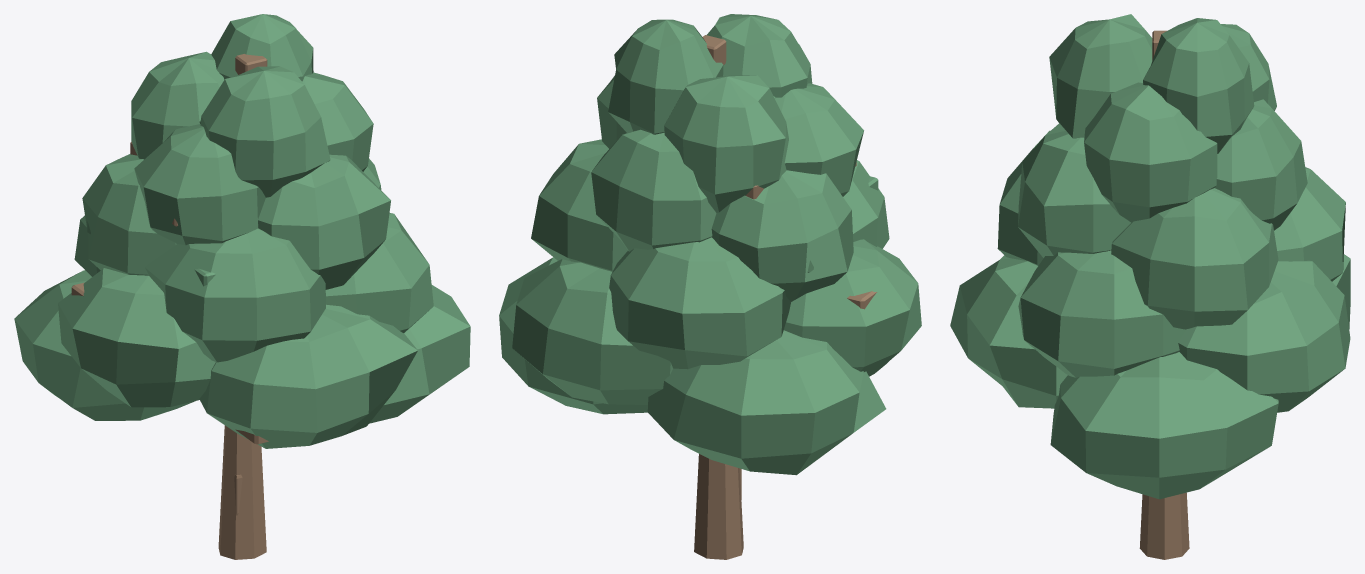
Rendered from b08_bald_cypress.glb.
3 views of the same model, side by side, from view 1: azimuth 30°, elevation 25°; view 2: azimuth 150°, elevation 25°; view 3: azimuth 270°, elevation 25° (orthographic). The views are drawn at different scales.
Parts seen in each view (by area): view 1: b08_bald_cypress; view 2: b08_bald_cypress; view 3: b08_bald_cypress.
Boxes of the visible parts, left/top/right/bottom form: b08_bald_cypress: left=14, top=14, right=470, bottom=559; b08_bald_cypress: left=499, top=14, right=921, bottom=559; b08_bald_cypress: left=950, top=14, right=1350, bottom=559.
Bounding box in the file's own units: 4.7 × 6.04 × 4.03.
